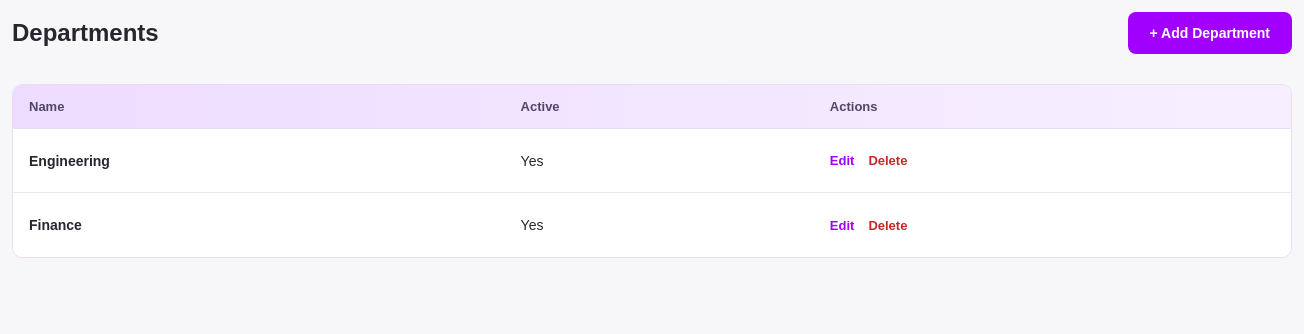
Test: MasterDataTable › deletes an item and shows an error if the delete is rejected (e.g. in-use)
expect the text "Engineering" is shown: met, box [13, 129, 505, 193]
Click the button "Delete" in the row of "Engineering" at (888, 160), box [868, 149, 907, 172]
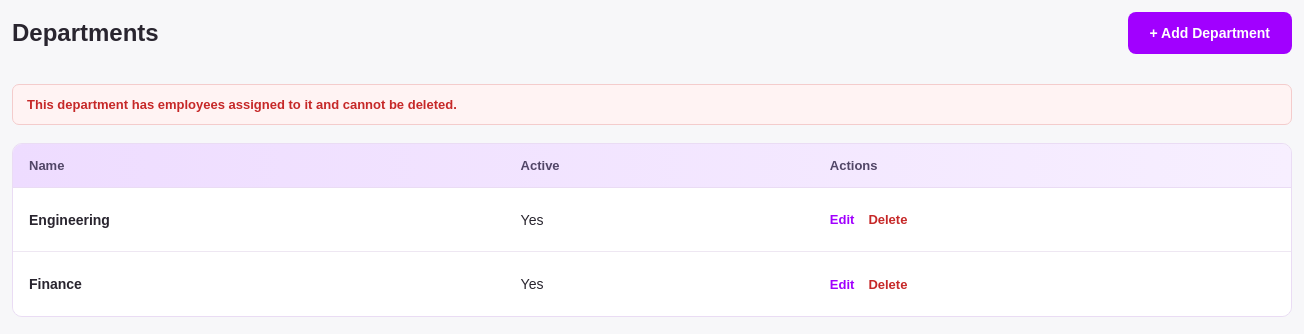
expect the text "This department has employees assigned to it and cannot be deleted." is shown: met, box [12, 84, 1292, 125]
